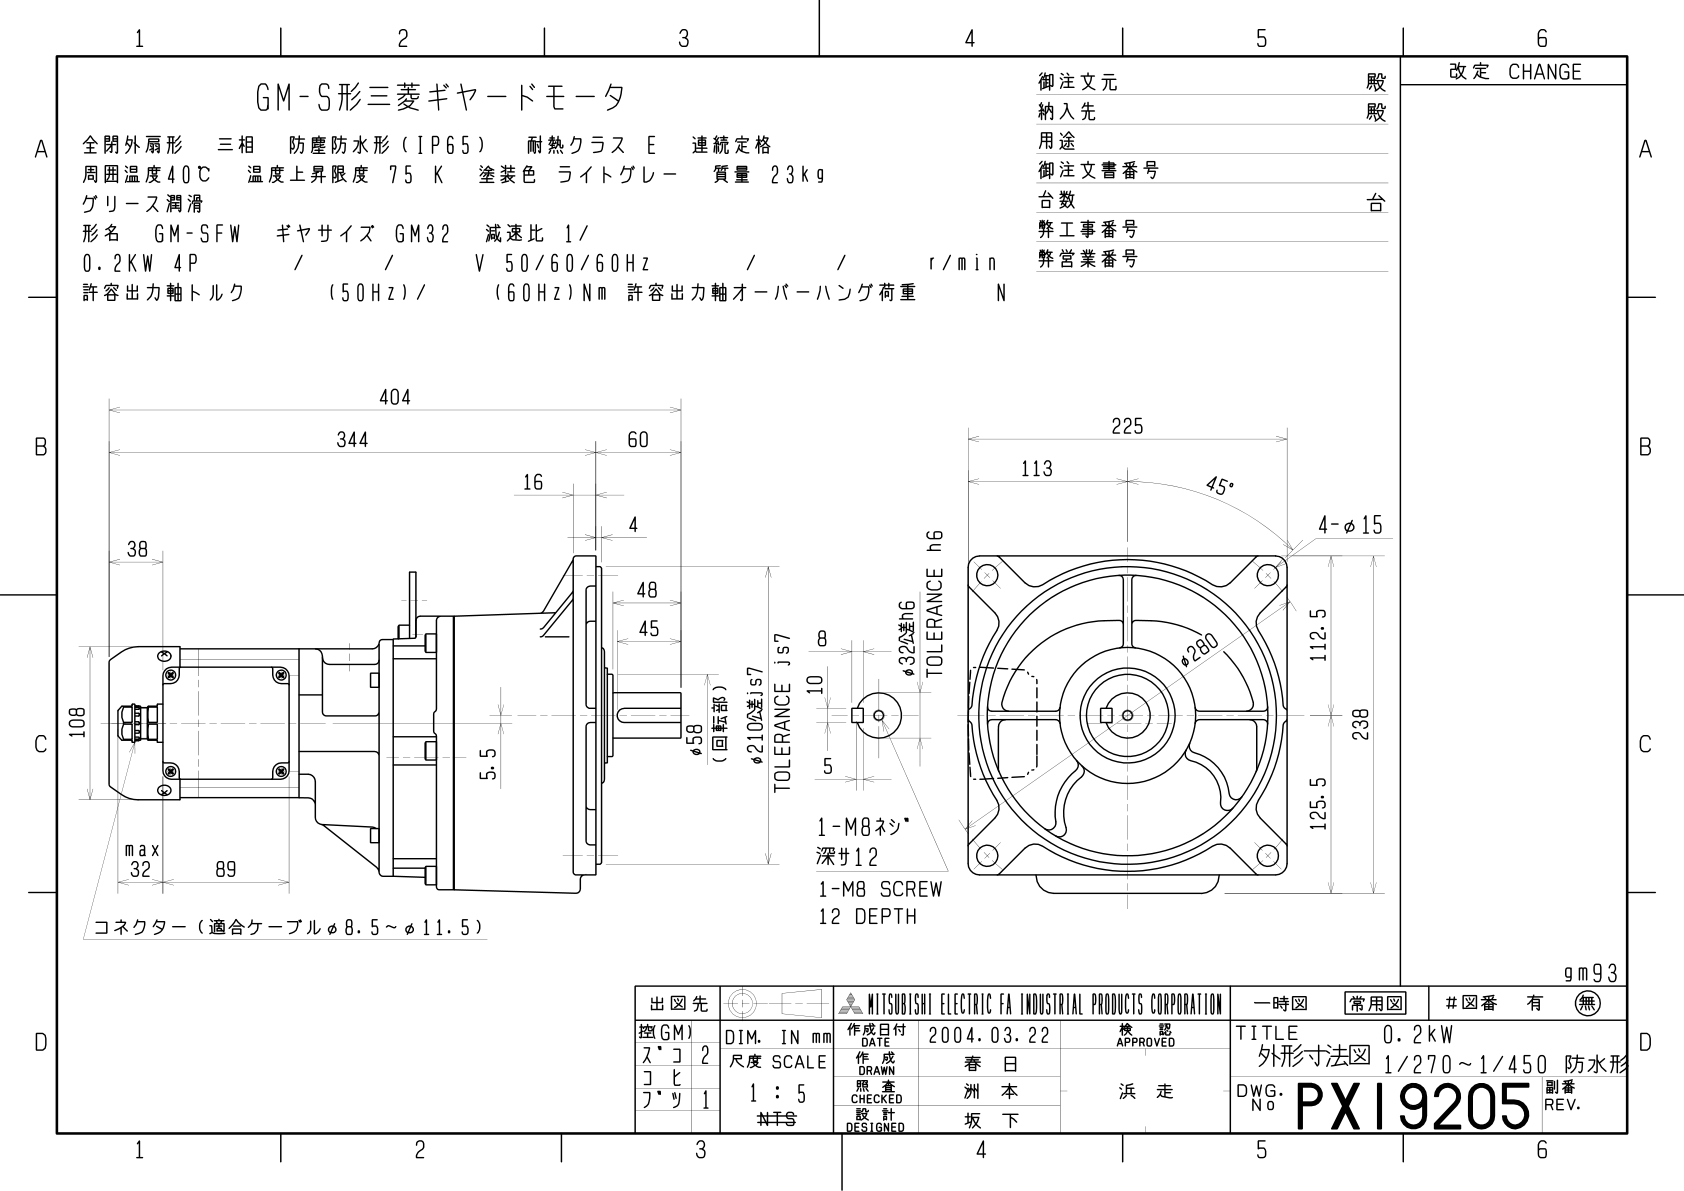GM_S_IP65＿三相_フランジ: (63, 345, 1397, 965)
